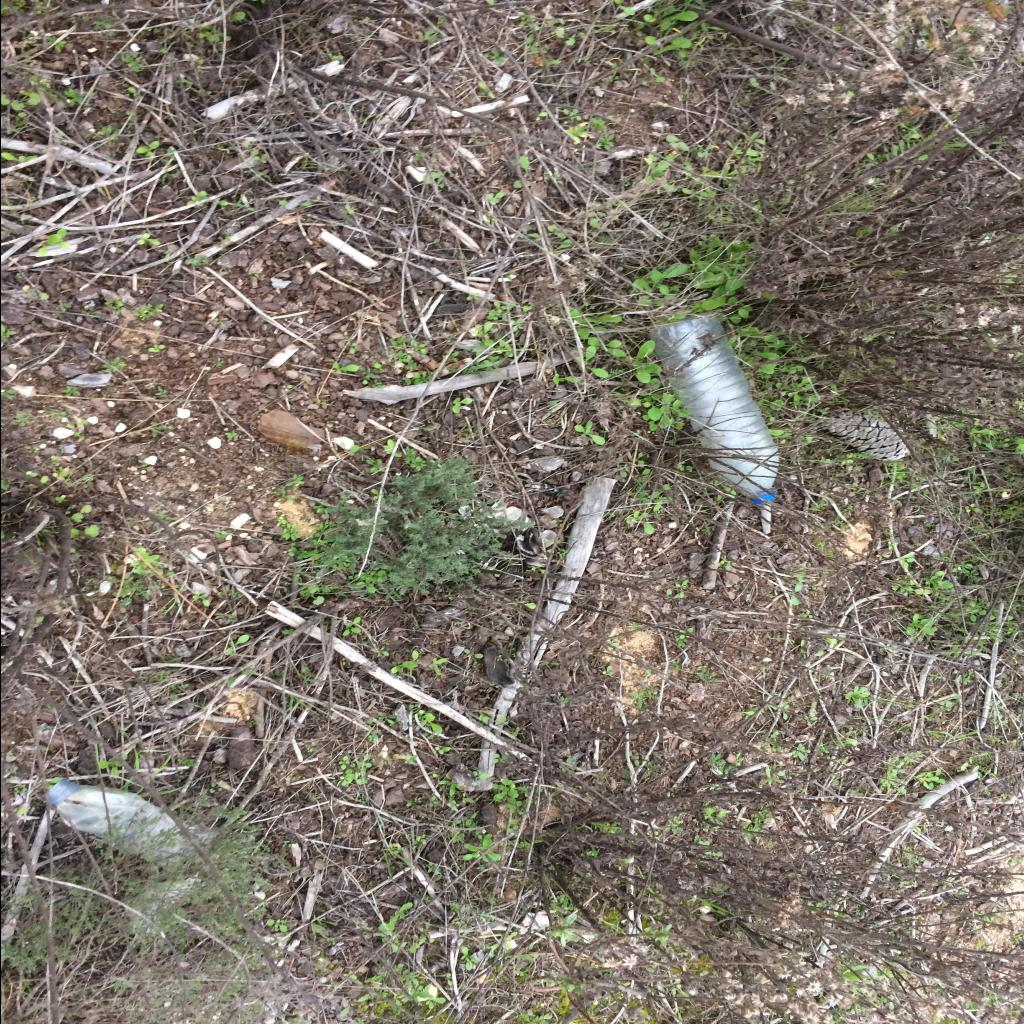Clear plastic bottle: (647, 314, 779, 504), (48, 776, 184, 862)
